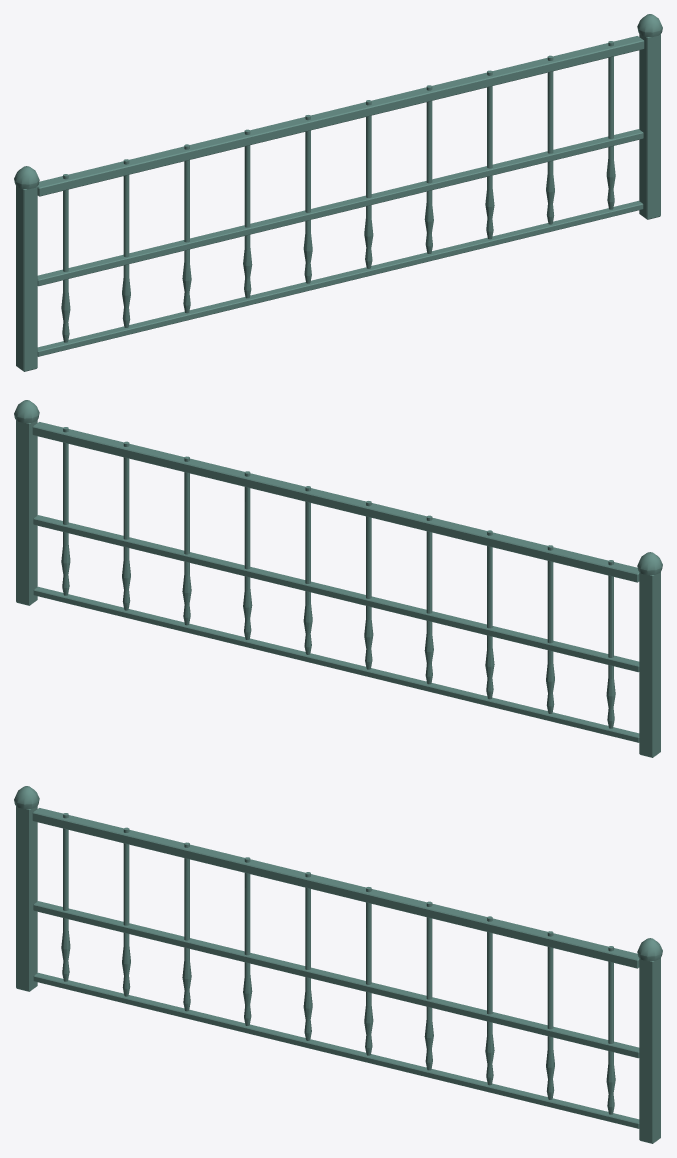
Rendered from amusement-arcade-and-seaside-pier-pier-railing-section-d1f383ef__35388.glb.
3 views of the same model, one above another, from view 1: azimuth 30°, elevation 25°; view 2: azimuth 150°, elevation 25°; view 3: azimuth 330°, elevation 25° (orthographic).
Parts seen in each view (by area): view 1: pier-railing-section; view 2: pier-railing-section; view 3: pier-railing-section.
Part boxes in pixels (x1=…): pier-railing-section: x1=14, y1=14, x2=662, y2=371; pier-railing-section: x1=14, y1=400, x2=662, y2=757; pier-railing-section: x1=14, y1=786, x2=662, y2=1143.
Size of the model in its own units: 4.05 by 1.2 by 0.1335.
